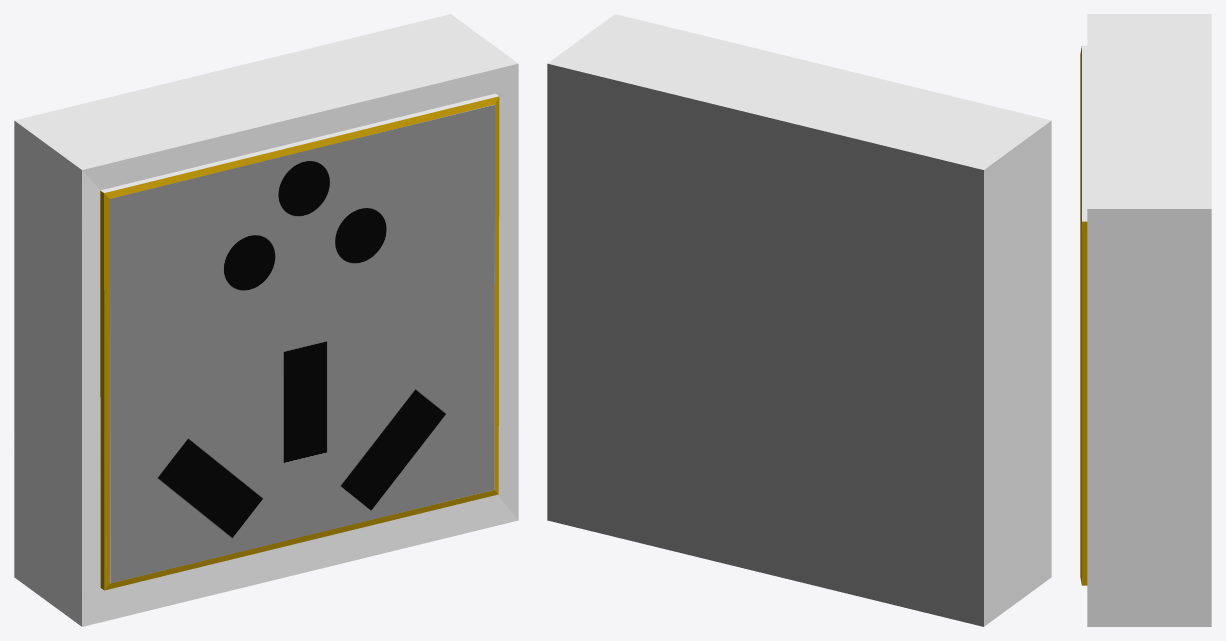
File: 插线板4.fbx
The picture shows the model from 3 angles, left to right: view 1: azimuth 30°, elevation 25°; view 2: azimuth 150°, elevation 25°; view 3: azimuth 270°, elevation 25°; orthographic projection. The views are drawn at different scales.
Visible parts, largest first — view 1: 立方体; view 2: 立方体; view 3: 立方体.
Part boxes in pixels (<box>): 立方体: <box>14,14,518,626</box>; 立方体: <box>547,14,1051,626</box>; 立方体: <box>1080,14,1211,626</box>.
Bounding box in the file's own units: 592 × 592 × 168.
1 material, 1 textured.
